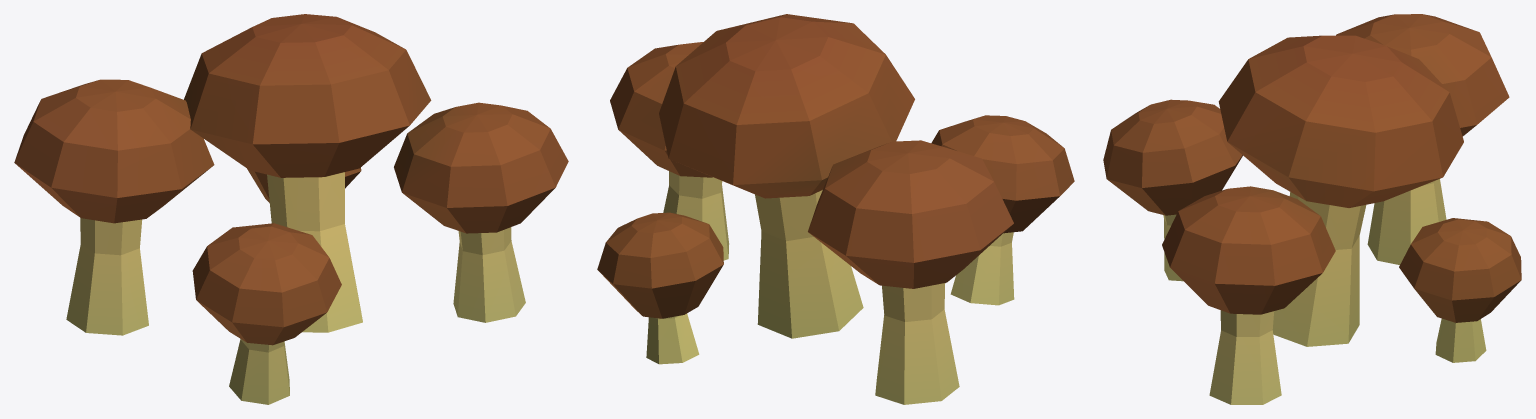
File: Mushroom_Cluster_01.glb
3 views of the same model, side by side, from view 1: azimuth 30°, elevation 25°; view 2: azimuth 150°, elevation 25°; view 3: azimuth 270°, elevation 25° (orthographic). The views are drawn at different scales.
Visible parts, largest first — view 1: Mushroom_Cluster_01; view 2: Mushroom_Cluster_01; view 3: Mushroom_Cluster_01.
Boxes of the visible parts, x1=… form: Mushroom_Cluster_01: x1=14, y1=14, x2=568, y2=404; Mushroom_Cluster_01: x1=597, y1=14, x2=1074, y2=404; Mushroom_Cluster_01: x1=1103, y1=14, x2=1521, y2=404.
Bounding box in the file's own units: 0.402 × 0.247 × 0.3311.
